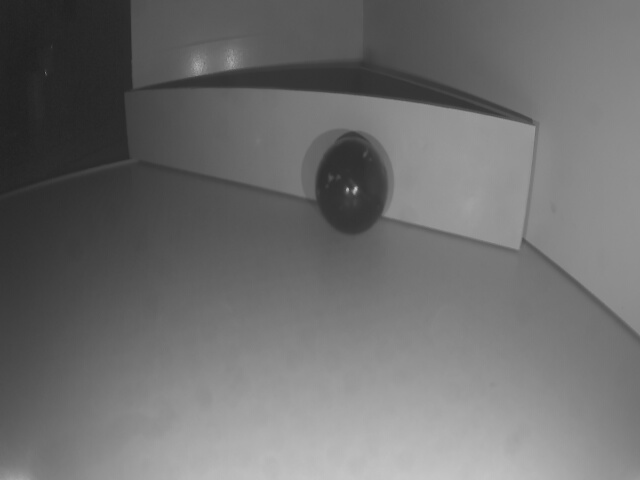Dead: (316, 133, 390, 236)
Red: (122, 89, 536, 251)
